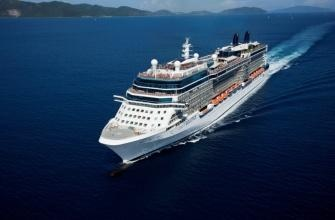youlun: (99, 32, 272, 164)
